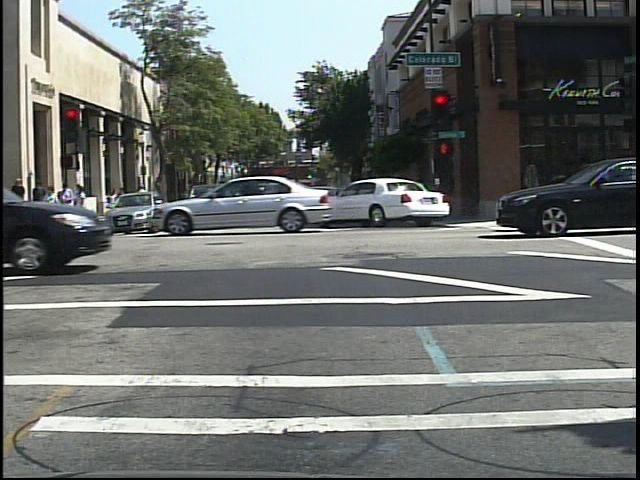person: (133, 181, 153, 221), (134, 181, 148, 214)
